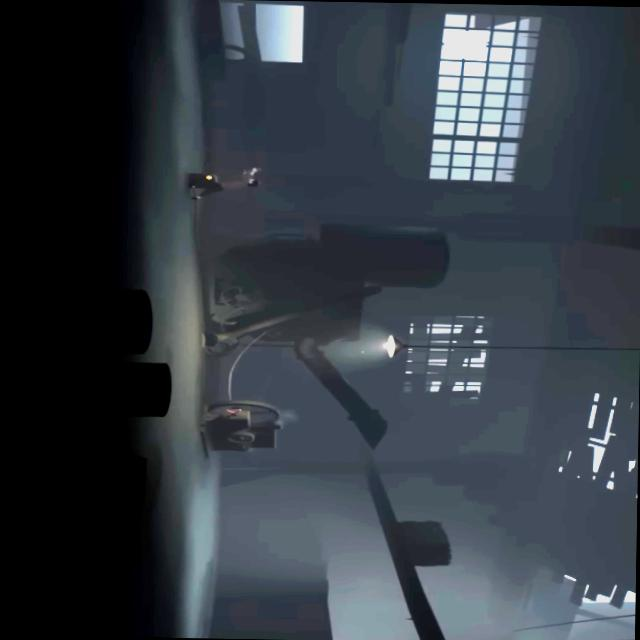boy: (189, 167, 263, 200)
